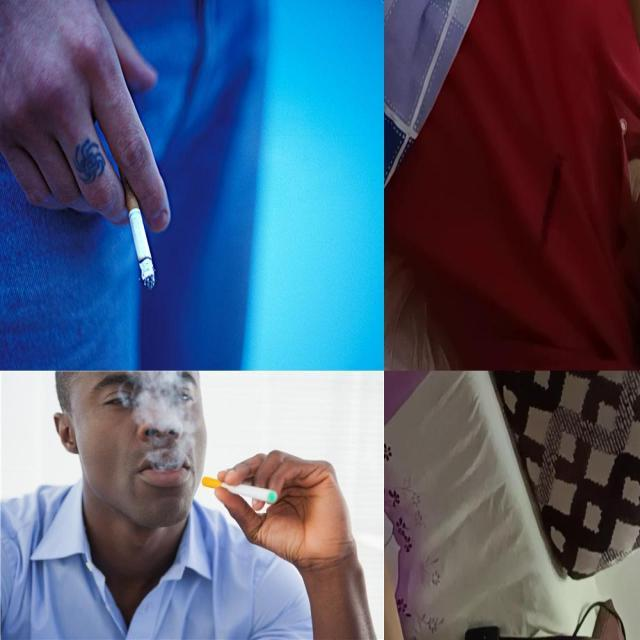smoking: (116, 154, 156, 292), (201, 476, 279, 504)
